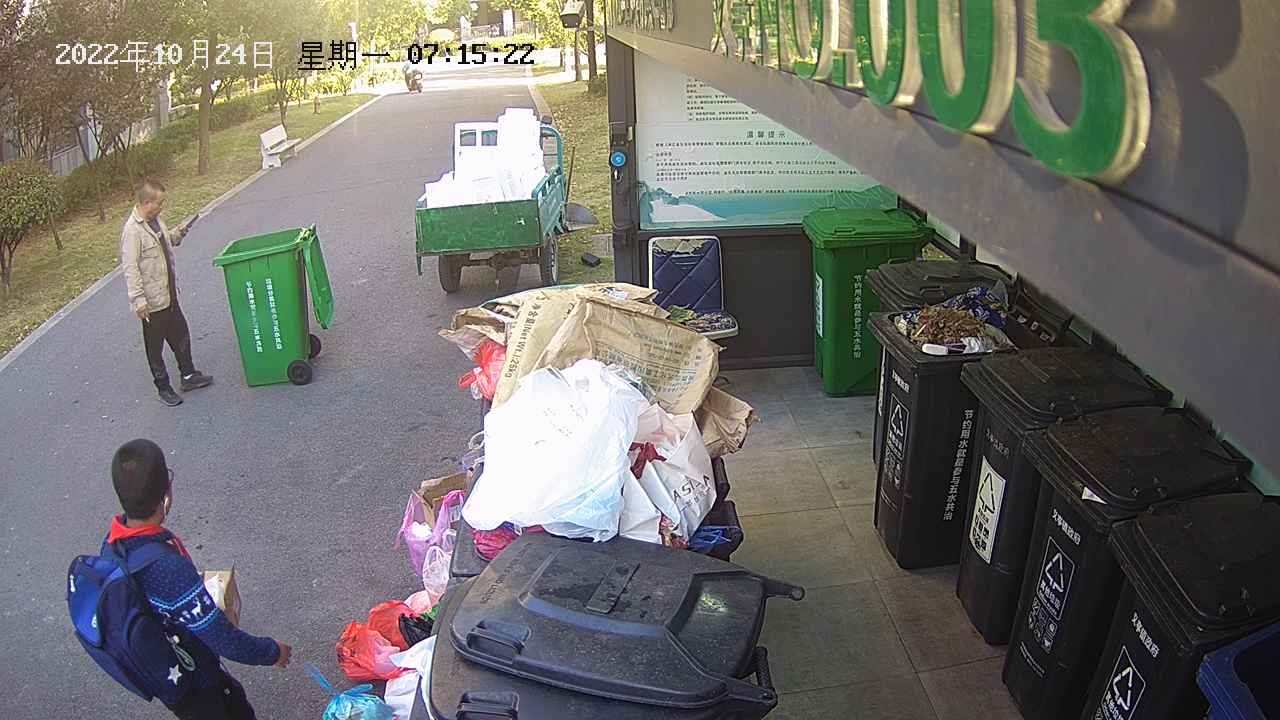garbage-bag: (329, 596, 430, 685), (303, 661, 395, 720)
person: (58, 435, 298, 720), (116, 178, 219, 412)
